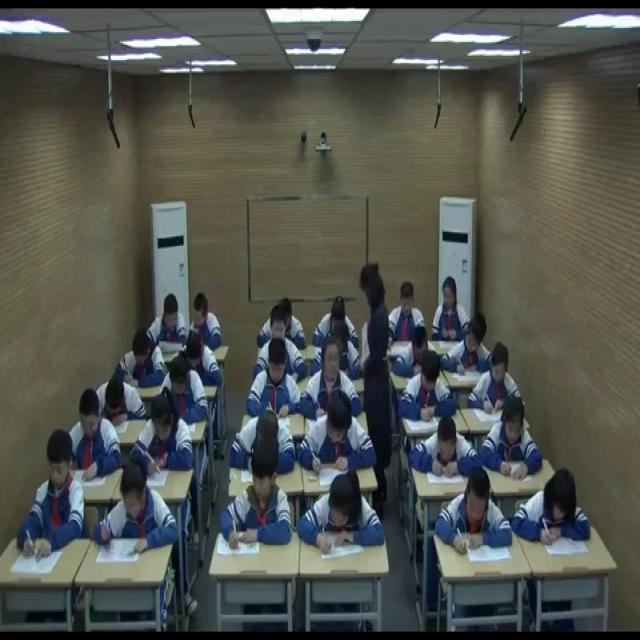distracted: (185, 291, 224, 356), (147, 297, 187, 354)
focused: (91, 451, 178, 555), (221, 437, 292, 556), (22, 430, 84, 562), (436, 468, 514, 566), (510, 469, 592, 562), (299, 474, 384, 559), (301, 392, 378, 484), (67, 390, 124, 488), (483, 397, 542, 490), (133, 389, 195, 476), (304, 338, 365, 421), (232, 403, 295, 482), (407, 418, 483, 483), (399, 346, 458, 426), (308, 316, 364, 388), (159, 350, 208, 432), (249, 341, 301, 418), (120, 326, 170, 402), (471, 344, 523, 412), (442, 314, 498, 377), (256, 308, 302, 380), (431, 277, 474, 343), (258, 297, 308, 352), (387, 278, 428, 342), (387, 332, 444, 378), (180, 328, 222, 389), (98, 372, 146, 424), (313, 296, 360, 349)
